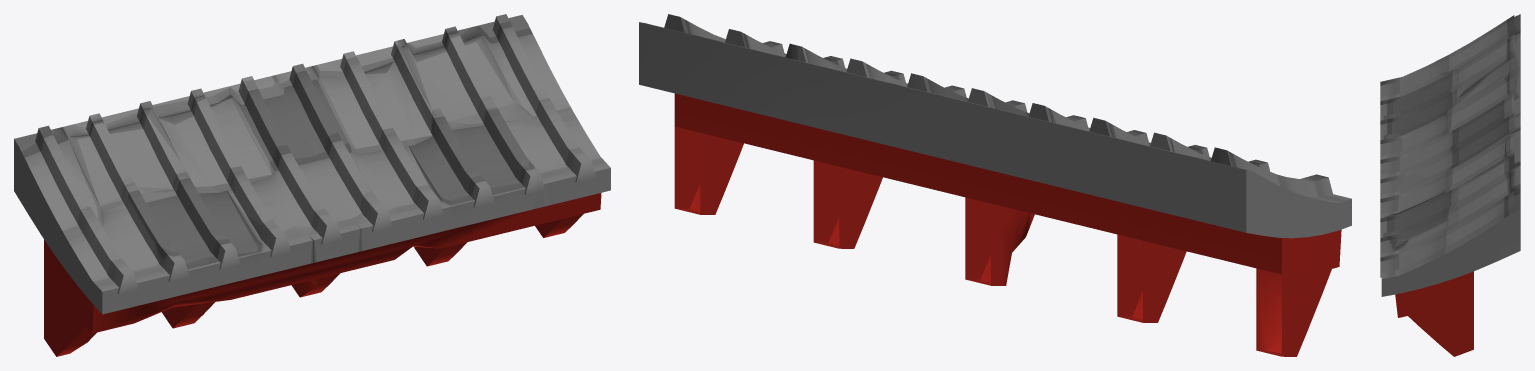
The model's file is SM_Bld_Kawara_Eave_01.fbx.
3 views of the same model, side by side, from view 1: azimuth 30°, elevation 25°; view 2: azimuth 150°, elevation 25°; view 3: azimuth 270°, elevation 25° (orthographic). The views are drawn at different scales.
Parts seen in each view (by area): view 1: SM_Bld_Kawara_Eave_01; view 2: SM_Bld_Kawara_Eave_01; view 3: SM_Bld_Kawara_Eave_01.
Part boxes in pixels (x1=…): SM_Bld_Kawara_Eave_01: x1=14, y1=14, x2=610, y2=356; SM_Bld_Kawara_Eave_01: x1=639, y1=14, x2=1351, y2=356; SM_Bld_Kawara_Eave_01: x1=1380, y1=14, x2=1520, y2=356.
Bounding box in the file's own units: 5 × 1.84 × 1.52.
